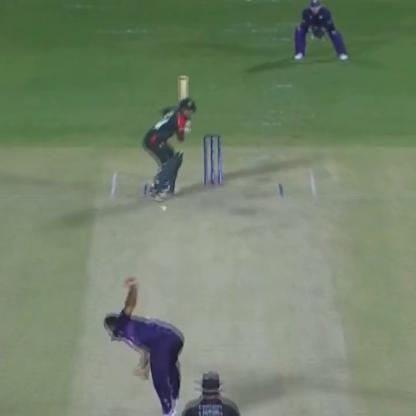ball: (156, 201, 173, 216)
bat: (165, 67, 203, 130)
pitch: (78, 160, 360, 416)
